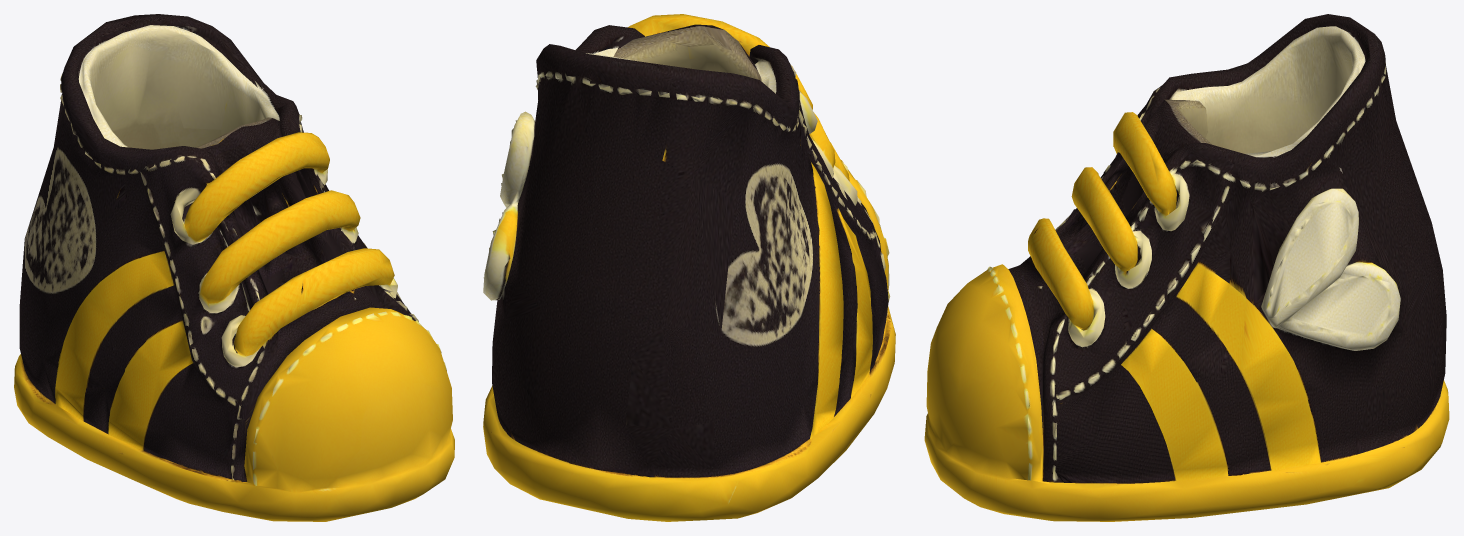
The model's file is shoe-left.fbx.
The picture shows the model from 3 angles, left to right: view 1: azimuth 30°, elevation 25°; view 2: azimuth 150°, elevation 25°; view 3: azimuth 270°, elevation 25°; orthographic projection. The views are drawn at different scales.
Visible parts, largest first — view 1: shoe-left; view 2: shoe-left; view 3: shoe-left.
Part boxes in pixels (<box>): shoe-left: <box>14,14,454,521</box>; shoe-left: <box>483,14,895,521</box>; shoe-left: <box>924,14,1449,521</box>.
Size of the model in its own units: 17.66 by 20.49 by 24.77.
1 material, 1 textured.
